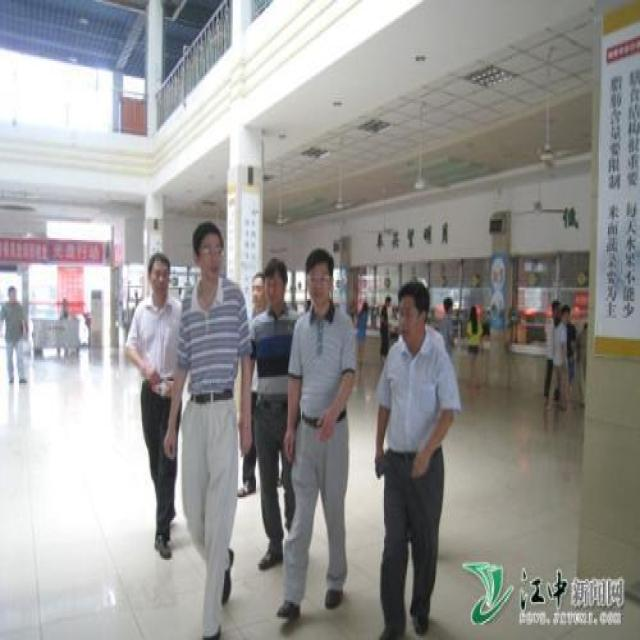no-helmet: (393, 276, 431, 347), (304, 244, 339, 316), (190, 221, 227, 284), (253, 255, 290, 312), (143, 246, 174, 301)
